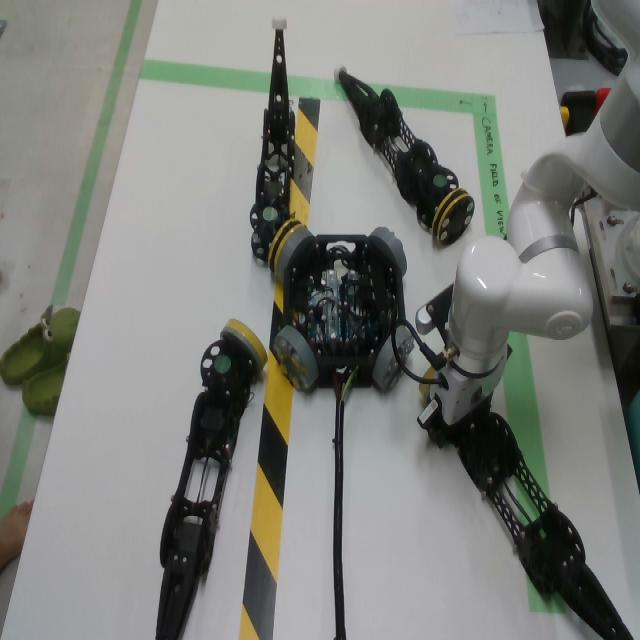body: (284, 235, 406, 389)
body_connector: (274, 325, 319, 391), (372, 325, 415, 393), (276, 227, 315, 279), (369, 227, 407, 275)
gripper: (417, 344, 513, 449)
leg: (445, 405, 635, 640), (155, 319, 268, 640), (333, 63, 474, 245), (249, 13, 304, 273), (418, 384, 432, 402), (421, 367, 436, 380)
leg_connector: (220, 319, 268, 375), (434, 189, 475, 247), (268, 219, 304, 273), (421, 367, 437, 380), (418, 384, 431, 400)
leg_marker: (215, 355, 231, 373), (263, 207, 278, 220), (433, 175, 447, 187)
